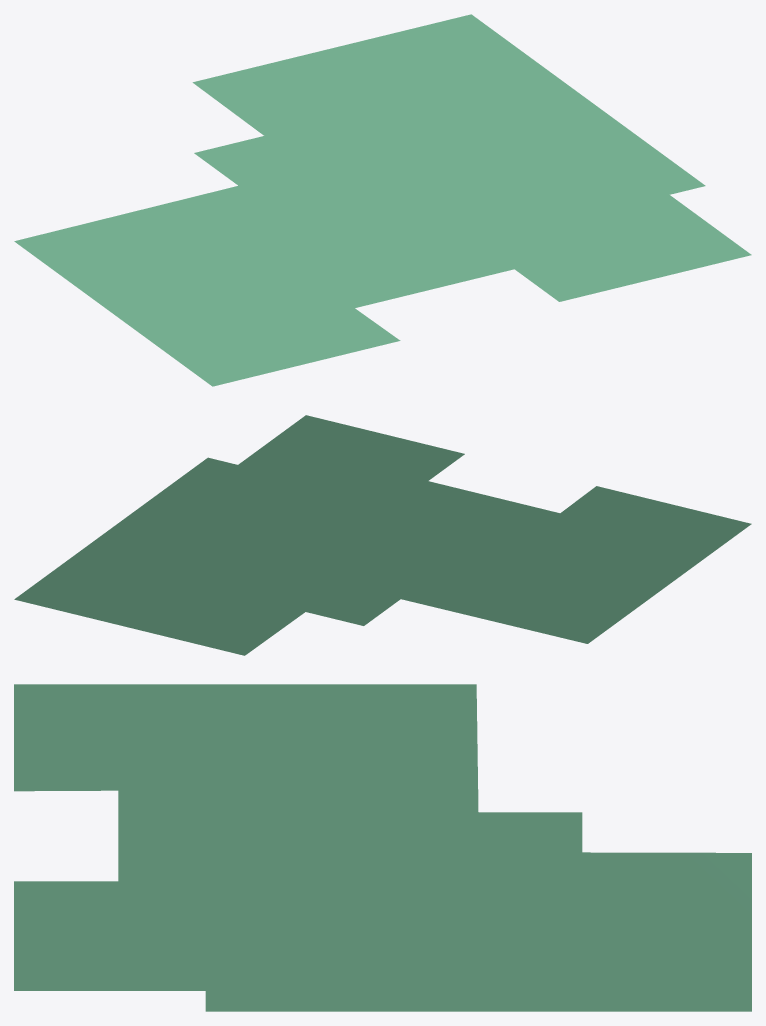
Rendered from cotf_floor.FBX.
The picture shows the model from 3 angles, top to bottom: view 1: azimuth 30°, elevation 25°; view 2: azimuth 150°, elevation 25°; view 3: azimuth 270°, elevation 25°; orthographic projection. The views are drawn at different scales.
Parts seen in each view (by area): view 1: cotf_floor; view 2: cotf_floor; view 3: cotf_floor.
Boxes of the visible parts, left/top/right/bottom form: cotf_floor: left=14, top=14, right=751, bottom=386; cotf_floor: left=14, top=415, right=751, bottom=655; cotf_floor: left=14, top=684, right=751, bottom=1011.
Bounding box in the file's own units: 16.57 × 2.57e-06 × 15.8.
